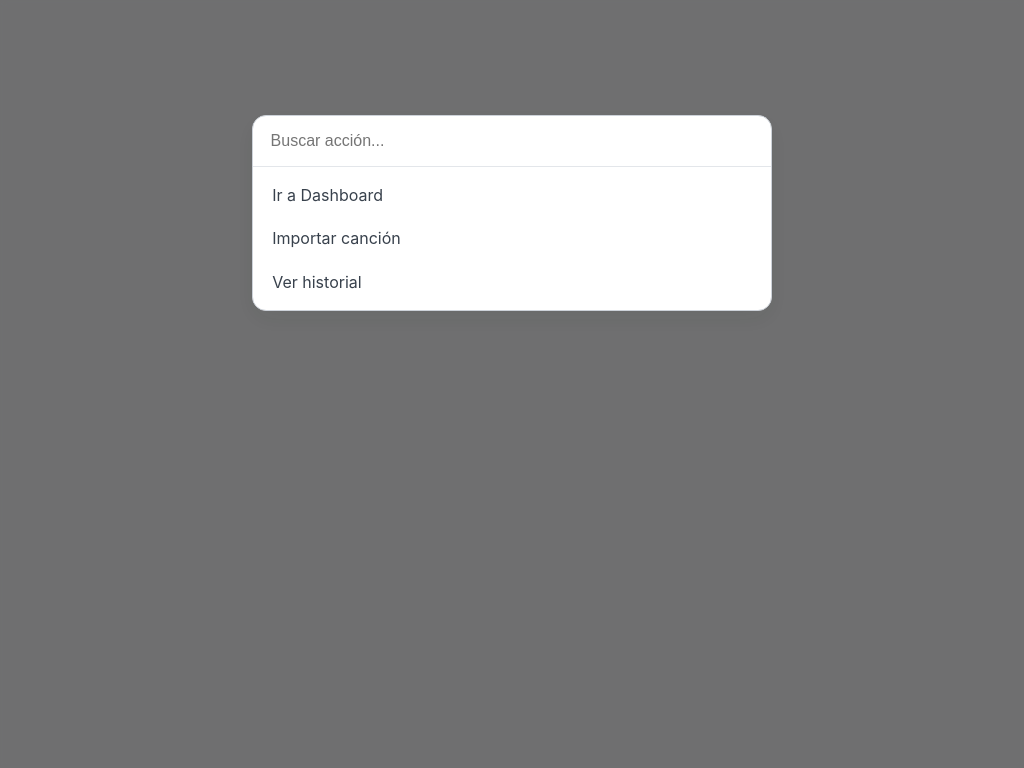
Test: CommandPalette › shows "Sin resultados" when nothing matches
The width and height of the screenshot is (1024, 768).
Type "zzz no existe" into the field with placeholder "Buscar acción...".
click(512, 142); type("zzz no existe")  # box [253,116,771,167]
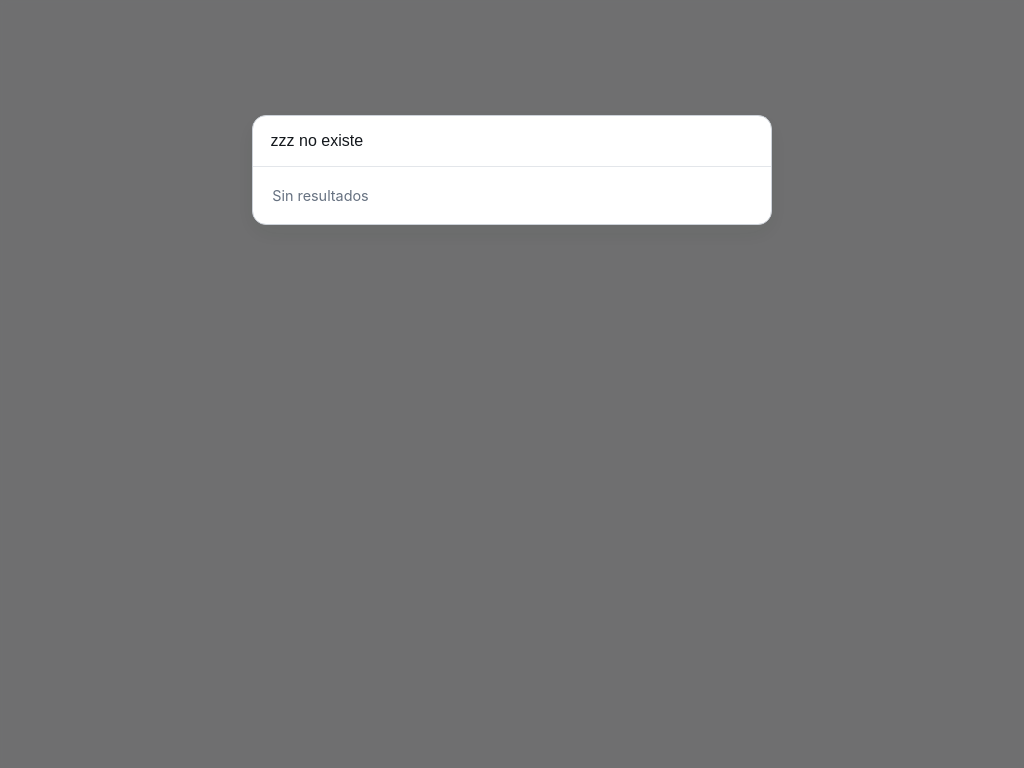
expect the list item "Sin resultados" is shown: met, box [272,187,369,204]
